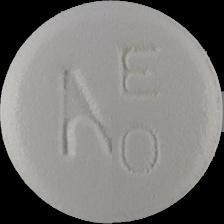0378-0353: (0, 0, 224, 224)
